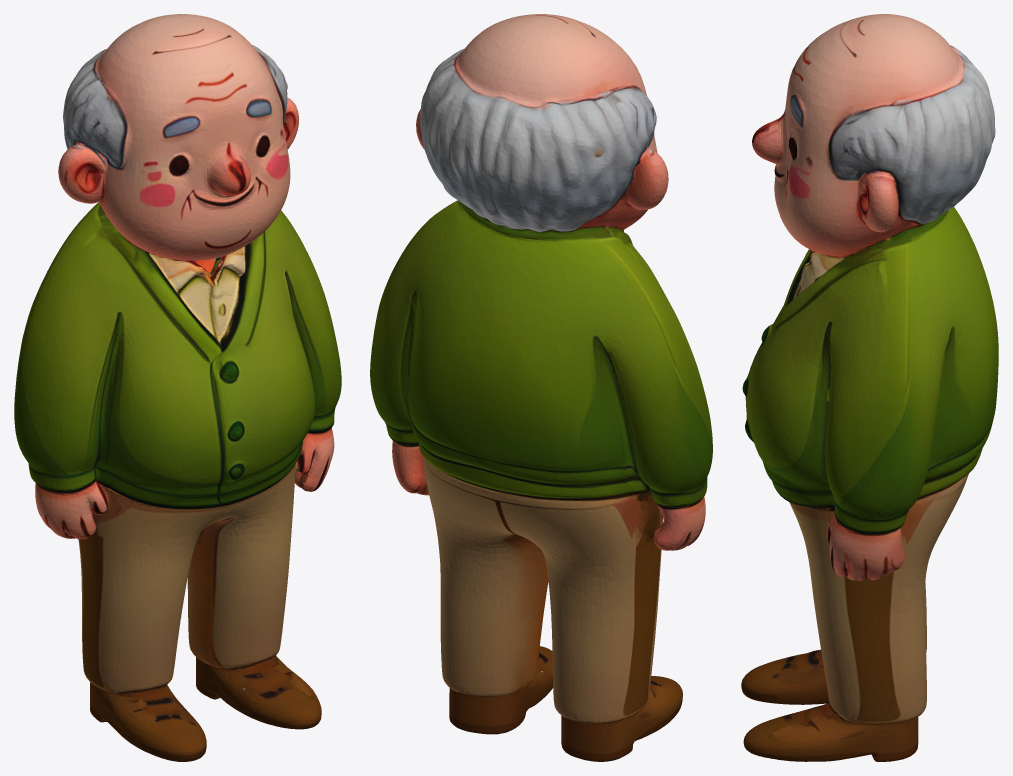
File: newMan3.glb
3 views of the same model, side by side, from view 1: azimuth 30°, elevation 25°; view 2: azimuth 150°, elevation 25°; view 3: azimuth 270°, elevation 25° (orthographic). The views are drawn at different scales.
Visible parts, largest first — view 1: b93b1a34-1906-4d55-a9b3-6805dcd76f64_texturing.obj; view 2: b93b1a34-1906-4d55-a9b3-6805dcd76f64_texturing.obj; view 3: b93b1a34-1906-4d55-a9b3-6805dcd76f64_texturing.obj.
Boxes of the visible parts, x1=… form: b93b1a34-1906-4d55-a9b3-6805dcd76f64_texturing.obj: x1=14, y1=14, x2=341, y2=761; b93b1a34-1906-4d55-a9b3-6805dcd76f64_texturing.obj: x1=370, y1=14, x2=712, y2=761; b93b1a34-1906-4d55-a9b3-6805dcd76f64_texturing.obj: x1=741, y1=14, x2=998, y2=761.
Size of the model in its own units: 0.9633 by 2 by 0.6687.
Materials: 1 (1 with a texture image).
